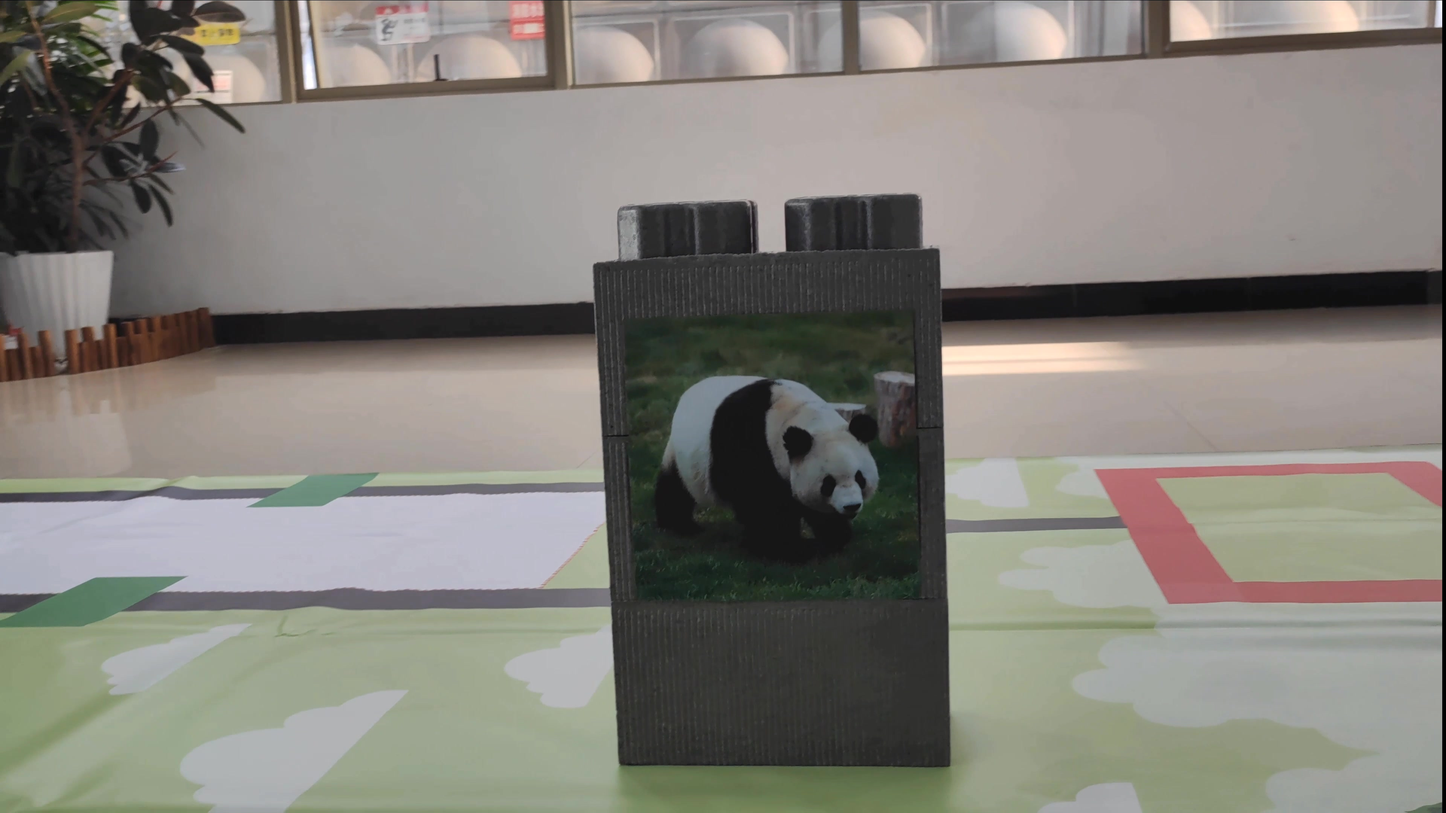panda: (644, 348, 895, 568)
